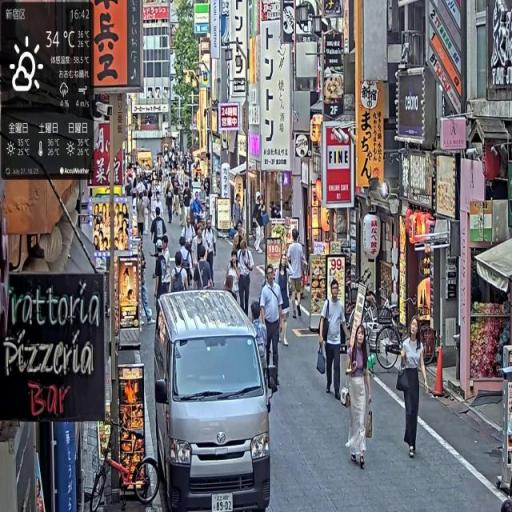person: (397, 312, 432, 464), (344, 322, 375, 470), (318, 279, 349, 404), (260, 264, 285, 394), (286, 228, 309, 325), (237, 240, 255, 319), (204, 218, 219, 287), (193, 245, 215, 291), (171, 251, 192, 294)
